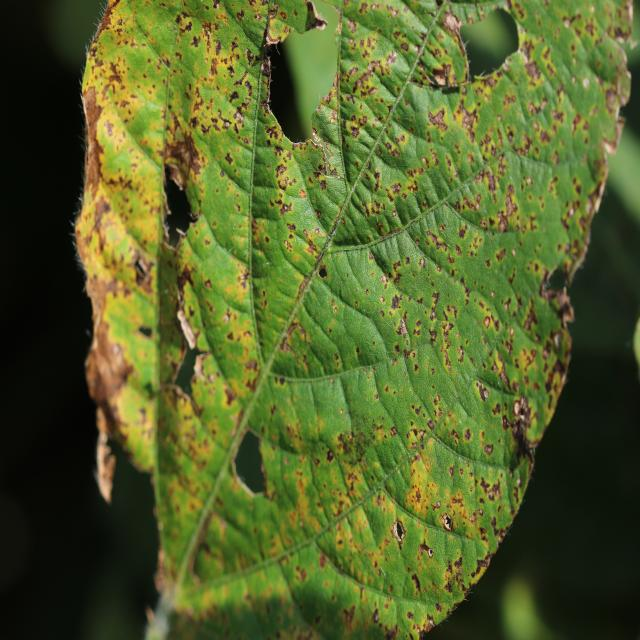Bacterial_Blight: (81, 179, 156, 295), (85, 302, 145, 417), (480, 158, 554, 244), (187, 15, 252, 102), (339, 84, 382, 156), (579, 172, 611, 262), (167, 125, 203, 183), (401, 455, 431, 520), (337, 420, 378, 467), (508, 335, 544, 386), (433, 306, 462, 362), (82, 84, 104, 146), (214, 378, 245, 418), (283, 320, 314, 357), (444, 557, 469, 598), (479, 474, 504, 504), (385, 286, 405, 319), (94, 194, 112, 221), (429, 107, 448, 132), (106, 61, 123, 88), (461, 108, 477, 134), (498, 364, 512, 391), (342, 603, 355, 631), (461, 193, 479, 213), (476, 380, 490, 403), (497, 212, 509, 234), (411, 572, 421, 594), (605, 88, 616, 108), (384, 624, 397, 640), (245, 358, 258, 372), (496, 247, 506, 262), (458, 224, 468, 239), (483, 443, 493, 456), (183, 20, 193, 33), (372, 608, 380, 623), (224, 152, 233, 165), (326, 448, 334, 462), (483, 316, 491, 329), (430, 308, 437, 321), (390, 425, 397, 437), (421, 156, 429, 166), (583, 77, 590, 88), (448, 466, 454, 477), (280, 12, 287, 21), (379, 295, 385, 304), (526, 177, 532, 186), (390, 331, 395, 338)
Soybean: (75, 0, 631, 640)
